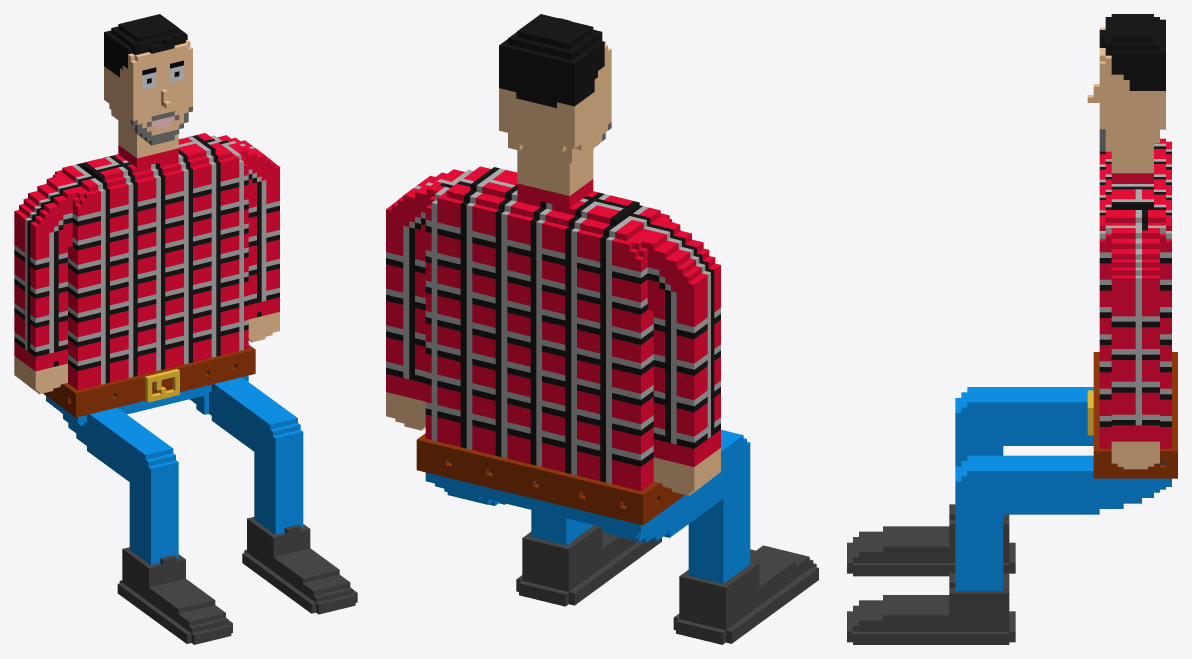
The model's file is john-dodi-sitting-1.gltf.
3 renders of one model, left to right at view 1: azimuth 30°, elevation 25°; view 2: azimuth 150°, elevation 25°; view 3: azimuth 270°, elevation 25°, orthographic. The views are drawn at different scales.
Parts seen in each view (by area): view 1: Node; view 2: Node; view 3: Node.
Boxes of the visible parts, bbox=[...] form: Node: bbox=[14, 14, 357, 644]; Node: bbox=[386, 14, 818, 644]; Node: bbox=[847, 14, 1177, 644].
Size of the model in its own units: 5.3 by 10.5 by 5.5.
Materials: 1 (1 with a texture image).
